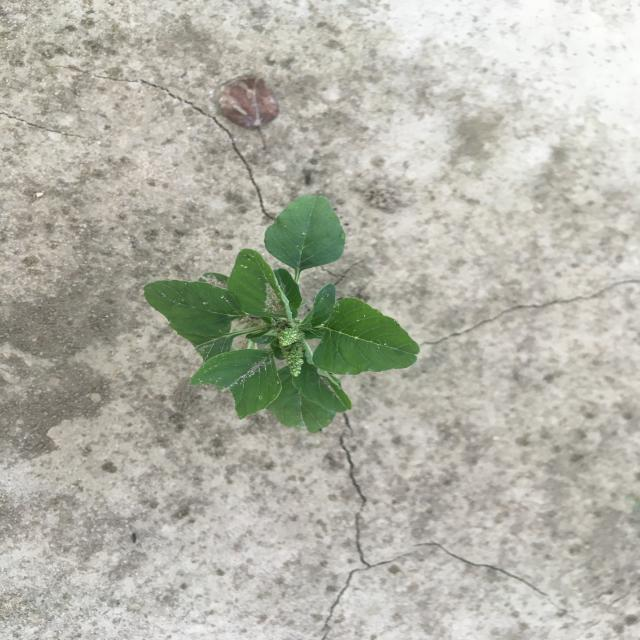PalmerAmaranth: (141, 193, 423, 436)
